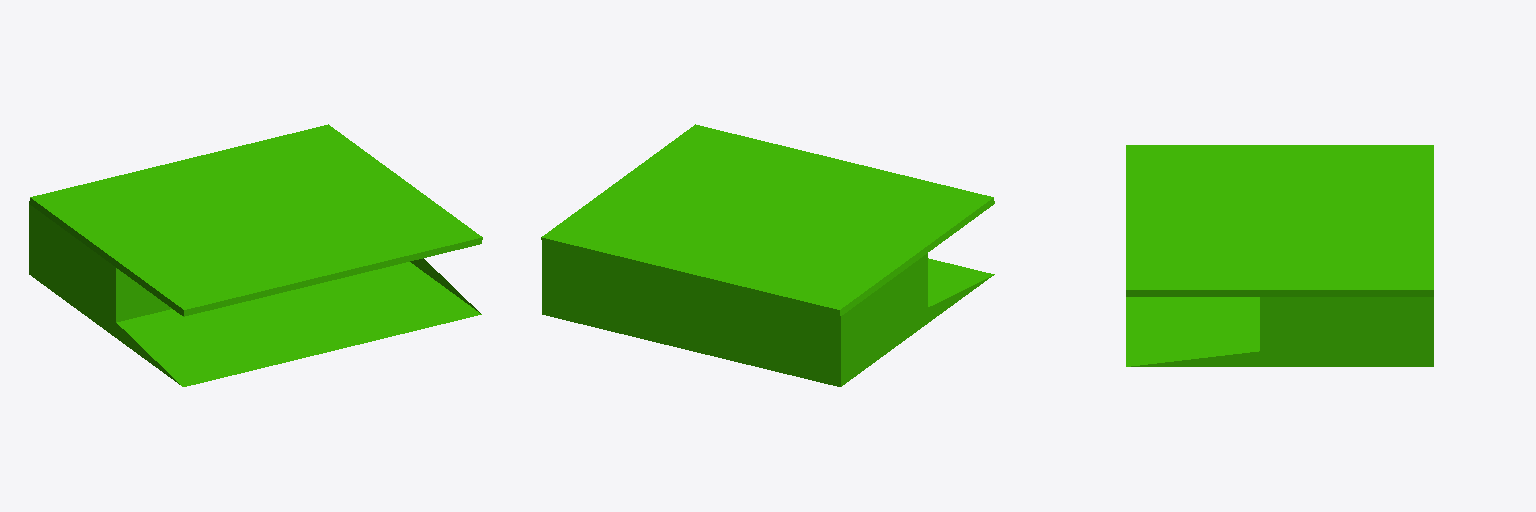
The model's file is mid_section.obj.
3 views of the same model, side by side, from view 1: azimuth 30°, elevation 25°; view 2: azimuth 150°, elevation 25°; view 3: azimuth 270°, elevation 25° (orthographic).
Visible parts, largest first — view 1: black_wall.012; view 2: black_wall.012; view 3: black_wall.012.
Boxes of the visible parts, box(x1,y1,x2,y2) form: black_wall.012: box(29, 124, 482, 386); black_wall.012: box(541, 124, 994, 386); black_wall.012: box(1126, 145, 1433, 366).
Size of the model in its own units: 39.72 by 9.78 by 35.45.